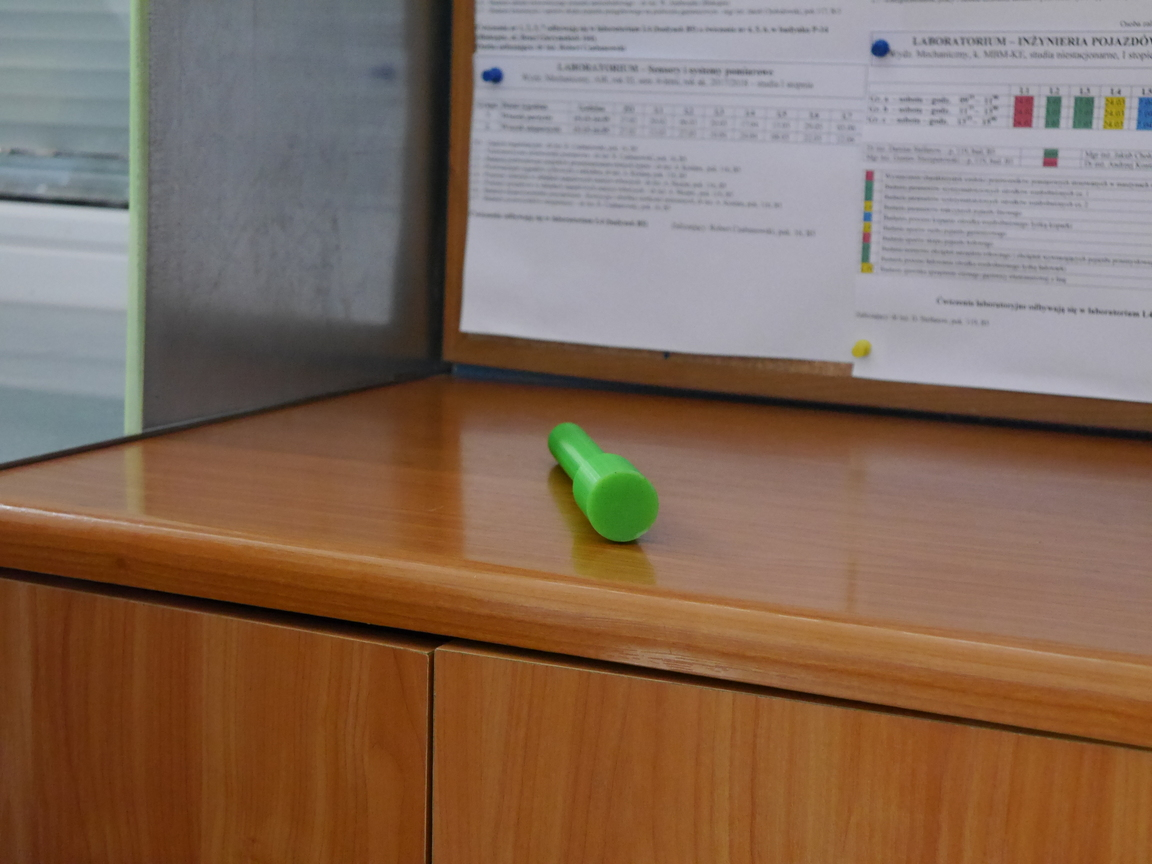cargo_g: (547, 422, 661, 544)
